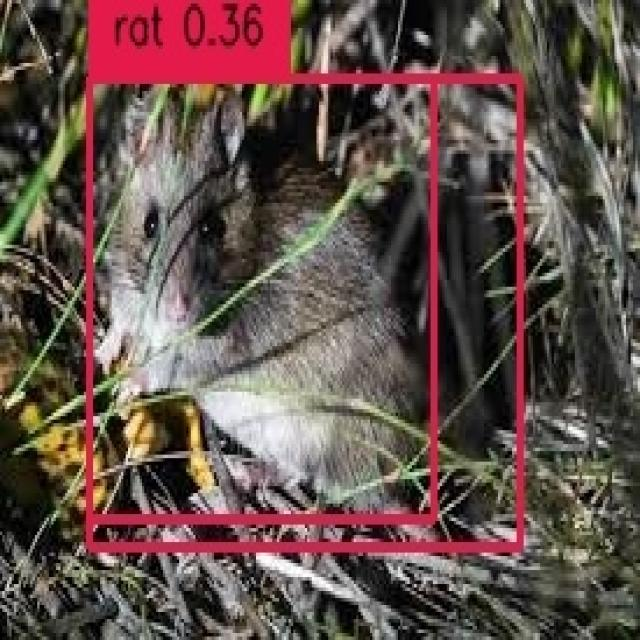rat: (86, 74, 517, 542), (86, 74, 431, 514)
